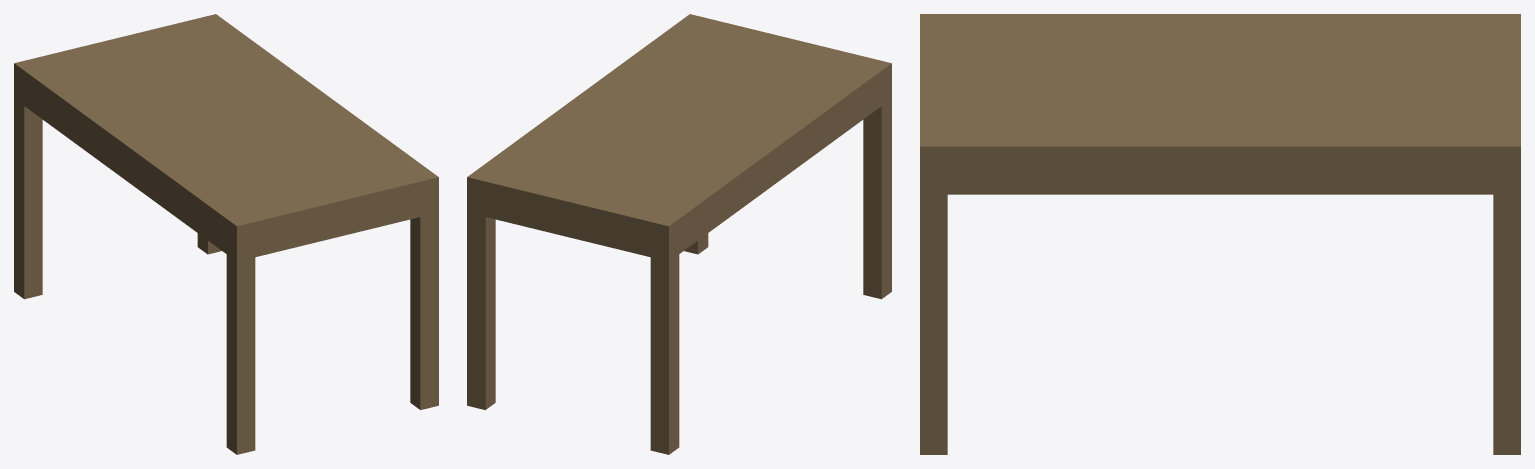
Rendered from table.fbx.
3 views of the same model, side by side, from view 1: azimuth 30°, elevation 25°; view 2: azimuth 150°, elevation 25°; view 3: azimuth 270°, elevation 25° (orthographic). The views are drawn at different scales.
Parts seen in each view (by area): view 1: tablea; view 2: tablea; view 3: tablea.
Boxes of the visible parts, bbox=[...] form: tablea: bbox=[14, 14, 438, 454]; tablea: bbox=[467, 14, 891, 454]; tablea: bbox=[920, 14, 1520, 454].
Bounding box in the file's own units: 0.653 × 0.7067 × 1.25.
